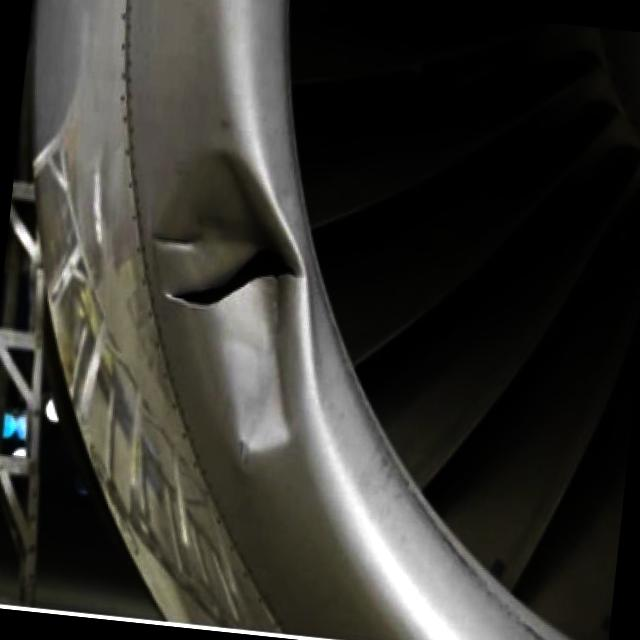crack: (165, 227, 308, 322)
dent: (194, 234, 352, 536), (149, 143, 293, 234)
